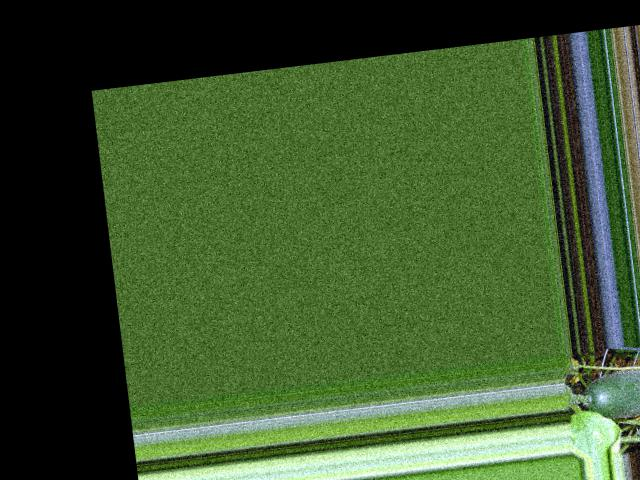cucumber: (578, 362, 640, 422)
